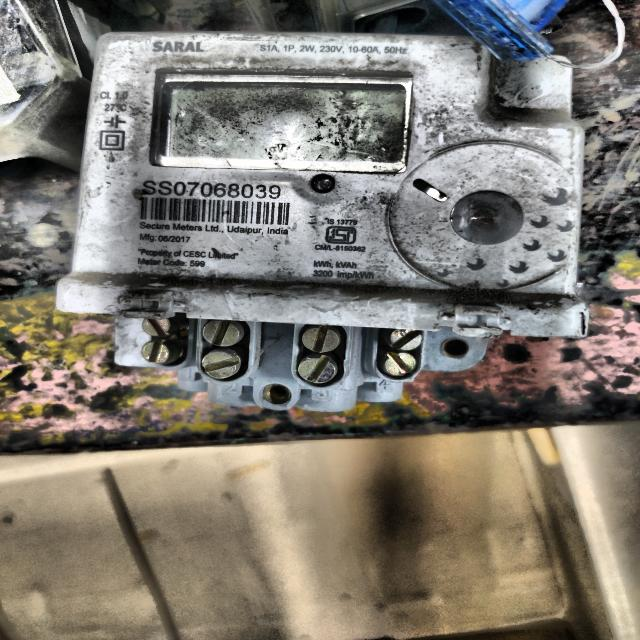Digital: (82, 39, 583, 315)
Reading: (152, 81, 405, 157)
Serial No.: (172, 180, 290, 198)
